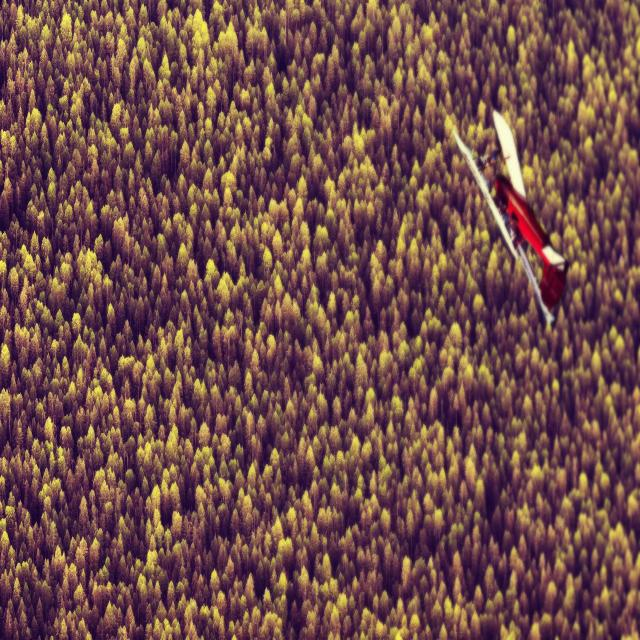airplane: (452, 108, 568, 328)
